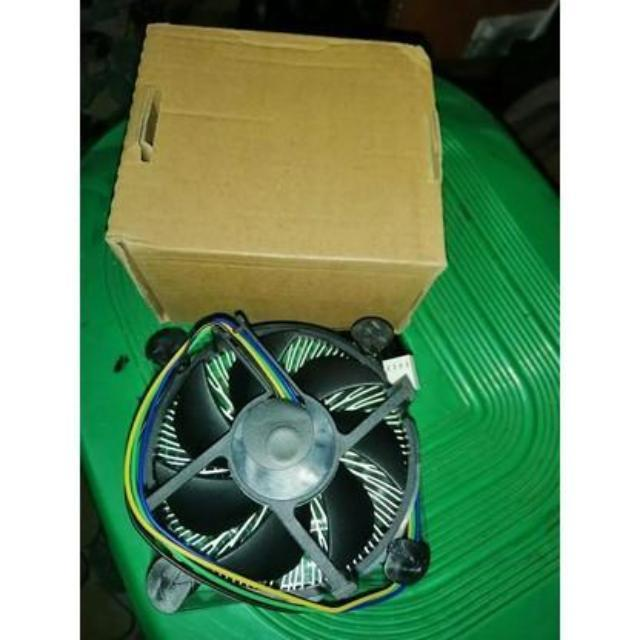CPU_Fan: (130, 304, 428, 612)
